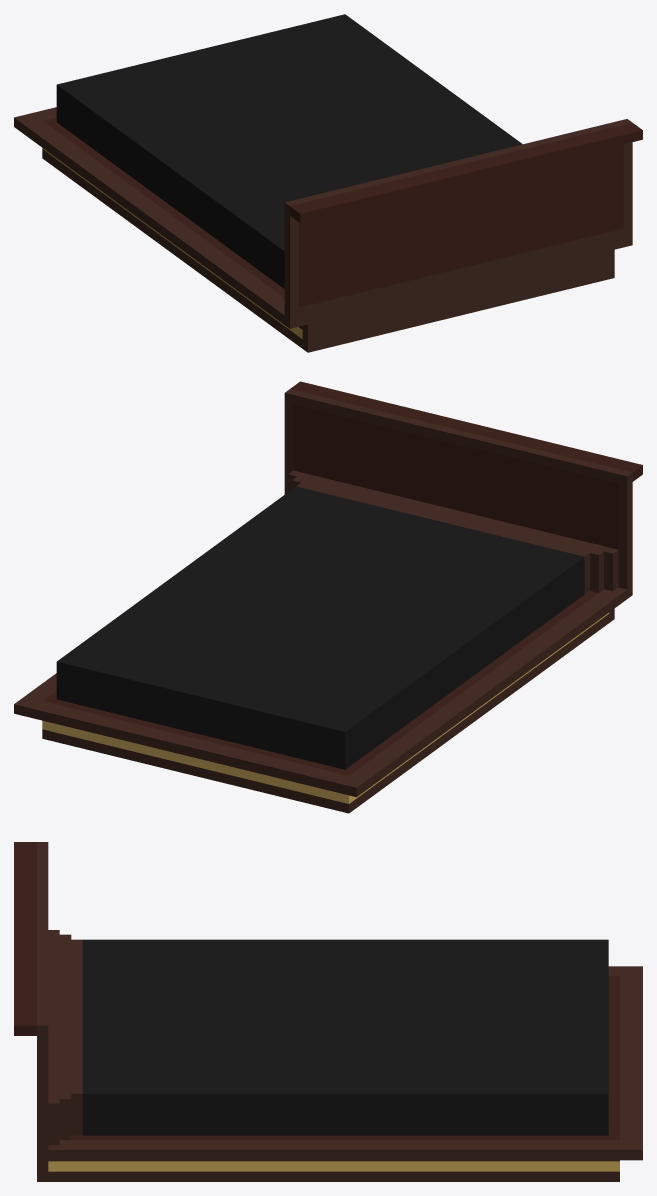
File: bed_frame.glb
3 renders of one model, top to bottom at view 1: azimuth 30°, elevation 25°; view 2: azimuth 150°, elevation 25°; view 3: azimuth 270°, elevation 25°, orthographic. The views are drawn at different scales.
Visible parts, largest first — view 1: model; view 2: model; view 3: model.
Part boxes in pixels (bbox=[...]): model: bbox=[14, 14, 642, 352]; model: bbox=[14, 381, 642, 813]; model: bbox=[14, 842, 642, 1181].
Bounding box in the file's own units: 3.8 × 1.6 × 5.5.
